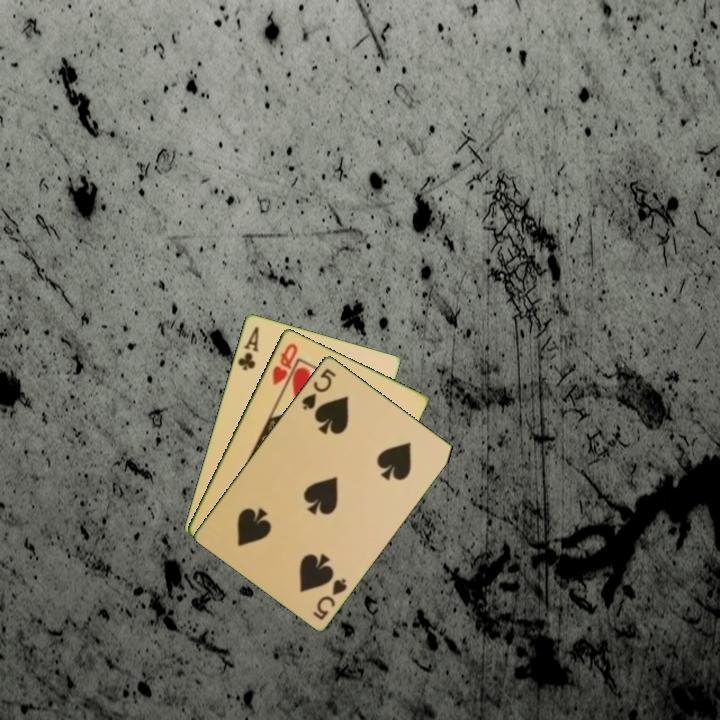5s: (298, 364, 339, 412), (309, 574, 350, 622)
Ac: (234, 323, 262, 373)
Qh: (268, 339, 300, 387)
